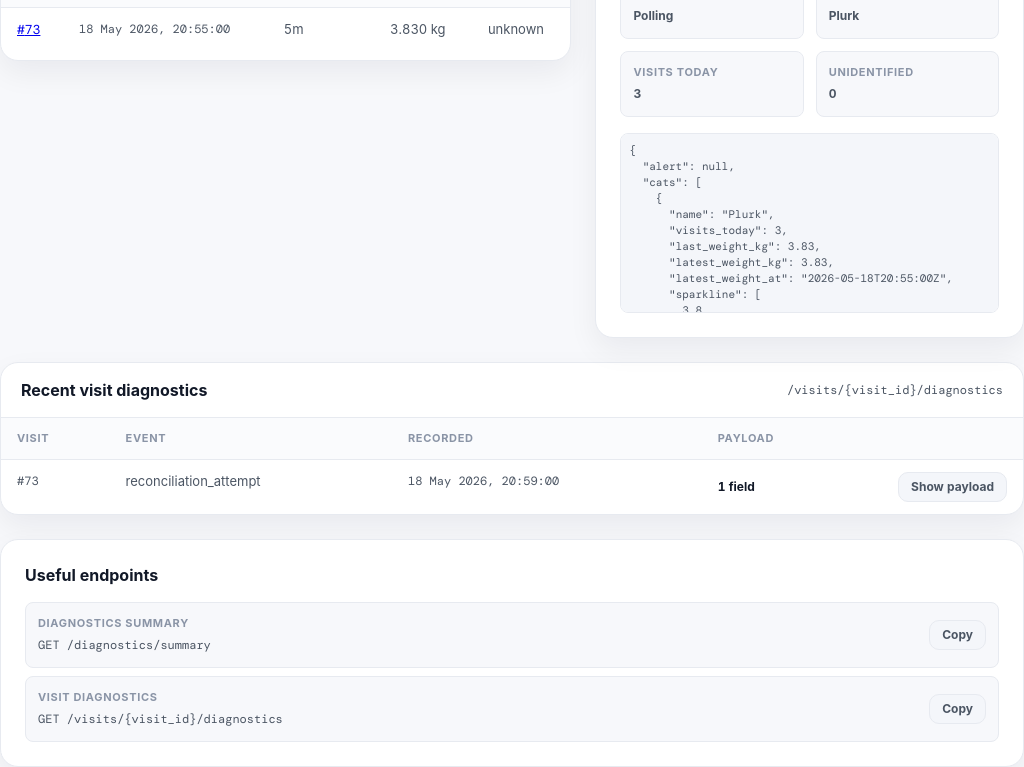
Diagnostics page › expands and collapses diagnostic payloads on demand
This screenshot has width=1024, height=767.
(page scrolled)
Click the button "Show payload".
click(953, 486)  # box [898, 472, 1007, 502]
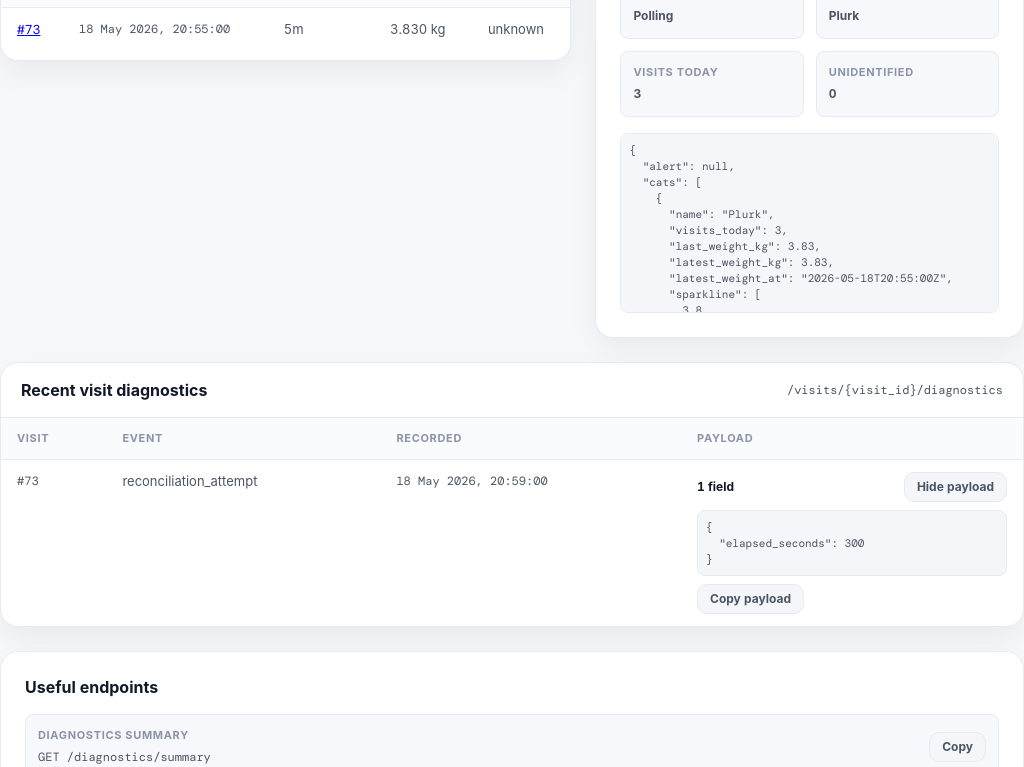
Expected: the text "{ \"elapsed_seconds\": 300 }" is shown, [697, 510, 1007, 576]
Expected: the button "Copy payload" is shown, [697, 584, 804, 614]
Click the button "Hide payload".
click(955, 486)  # box [904, 472, 1007, 502]
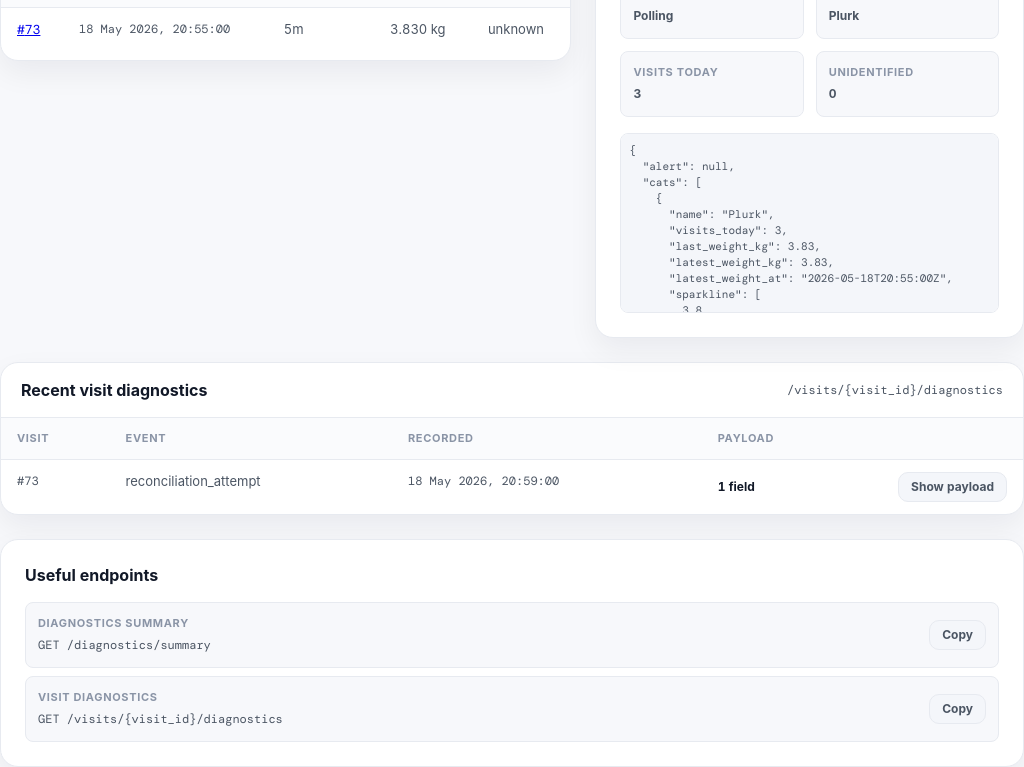
Expected: the text "elapsed_seconds" is gone
